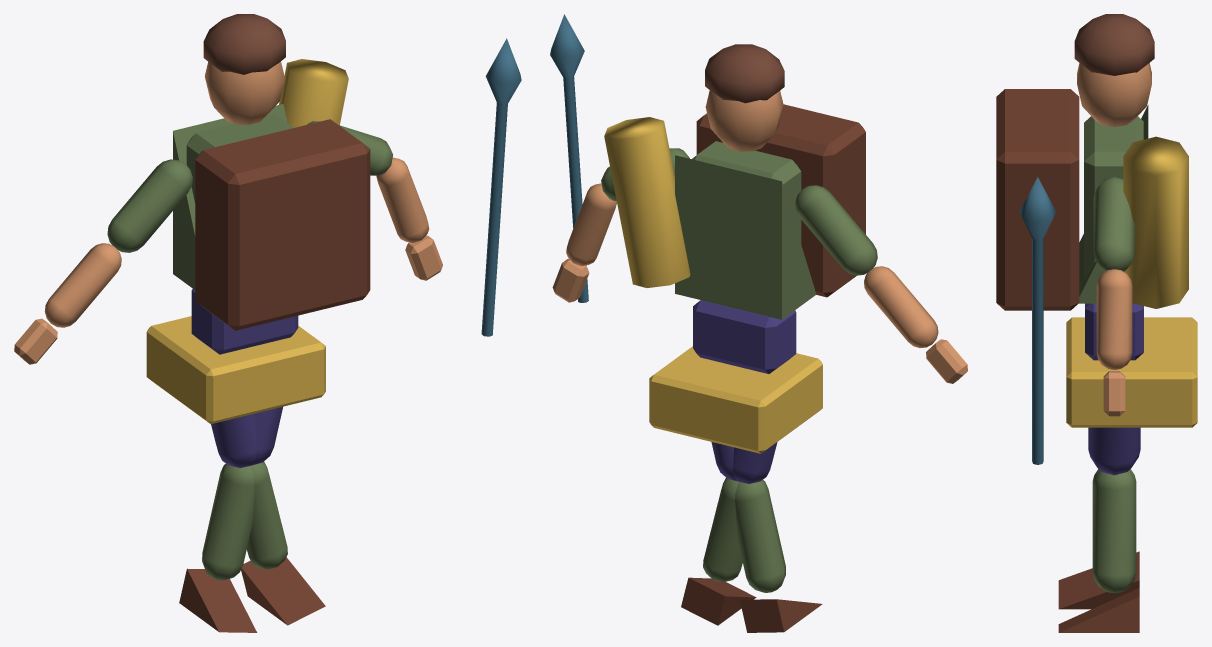
Rendered from adventurer.rustic.glb.
3 views of the same model, side by side, from view 1: azimuth 30°, elevation 25°; view 2: azimuth 150°, elevation 25°; view 3: azimuth 270°, elevation 25° (orthographic). The views are drawn at different scales.
Parts seen in each view (by area): view 1: accessory.body, accessory.waist, shin.right, accessory.main-hand, upper-arm.left, hair, accessory.back, head, forearm.left, foot.left, foot.right, tunic (+9 smaller); view 2: tunic, accessory.waist, accessory.back, accessory.body, pelvis, shin.right, upper-arm.left, hair, head, forearm.left, accessory.main-hand, torso (+8 smaller); view 3: accessory.body, accessory.waist, accessory.back, shin.left, accessory.main-hand, hair, torso, head, forearm.right, upper-arm.right, foot.left, thigh.right (+4 smaller).
Part boxes in pixels (x1,y1,x2,y2): accessory.body: (195, 119, 370, 330); accessory.waist: (146, 316, 325, 423); shin.right: (202, 464, 254, 580); accessory.main-hand: (481, 38, 521, 336); upper-arm.left: (107, 159, 192, 252); hair: (203, 14, 285, 74); accessory.back: (279, 59, 348, 127); head: (204, 61, 284, 124); forearm.left: (44, 243, 121, 327); foot.left: (241, 557, 325, 625); foot.right: (179, 568, 257, 632); tunic: (173, 104, 287, 289); tunic: (675, 155, 816, 319); accessory.waist: (649, 346, 822, 453); accessory.back: (604, 117, 690, 287); accessory.body: (696, 104, 865, 297); pelvis: (693, 300, 796, 373); shin.right: (735, 480, 785, 592); upper-arm.left: (795, 185, 877, 275); hair: (705, 44, 784, 103); head: (705, 90, 783, 151); forearm.left: (864, 266, 938, 347); accessory.main-hand: (550, 14, 588, 302); torso: (692, 141, 801, 243); accessory.body: (996, 89, 1079, 310); accessory.waist: (1066, 317, 1197, 427); accessory.back: (1123, 136, 1188, 308); shin.left: (1092, 470, 1136, 592); accessory.main-hand: (1019, 177, 1055, 464); hair: (1074, 14, 1154, 75); torso: (1084, 116, 1143, 277); head: (1077, 63, 1151, 126); forearm.right: (1096, 269, 1132, 369); upper-arm.right: (1093, 177, 1135, 271); foot.left: (1058, 588, 1139, 632); thigh.right: (1088, 427, 1140, 475).
Bounding box in the file's own units: 2.48 × 3.01 × 0.92.
